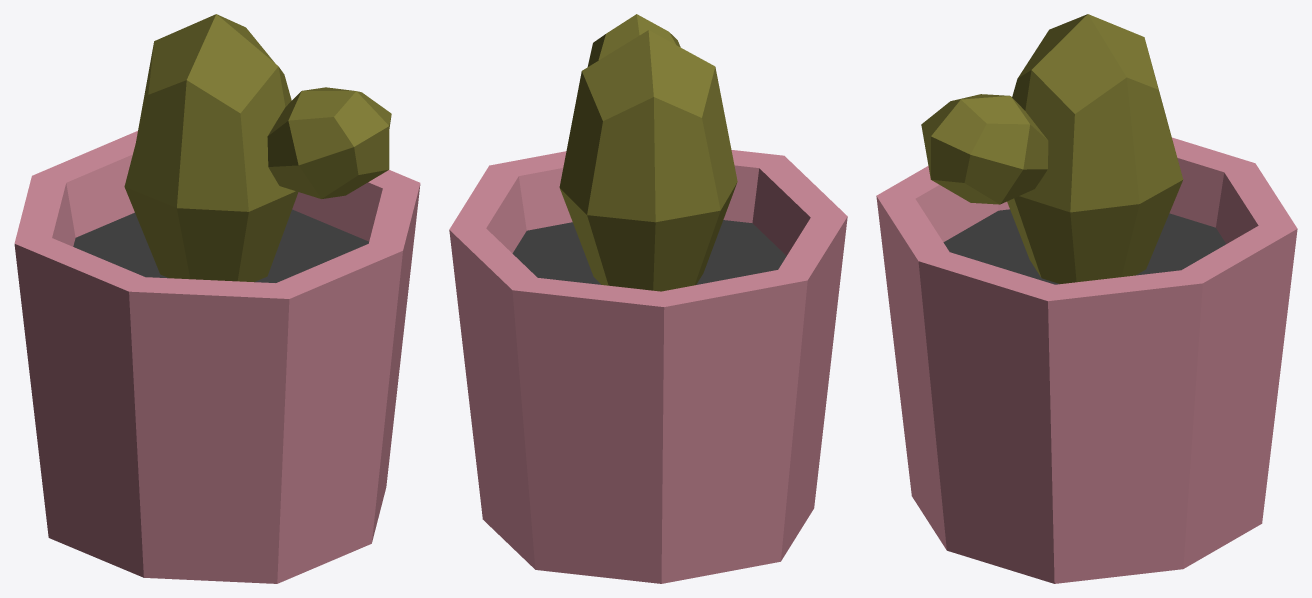
Rendered from Flower_35.fbx.
3 renders of one model, left to right at view 1: azimuth 30°, elevation 25°; view 2: azimuth 150°, elevation 25°; view 3: azimuth 270°, elevation 25°, orthographic. The views are drawn at different scales.
Visible parts, largest first — view 1: Flower_35; view 2: Flower_35; view 3: Flower_35.
Part boxes in pixels (x1,y1,x2,y2): Flower_35: (14, 14, 420, 583); Flower_35: (449, 14, 847, 583); Flower_35: (876, 14, 1297, 583).
Bounding box in the file's own units: 15.97 × 15.97 × 20.74.
